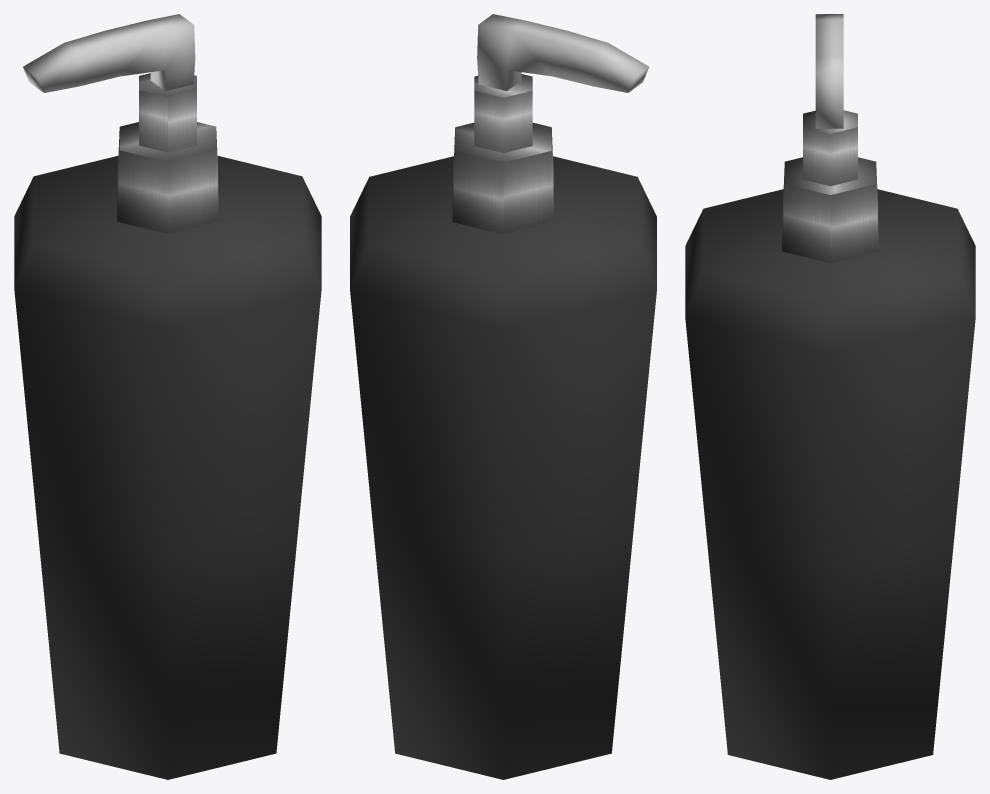
Rendered from Soap_Dispenser_C.FBX.
3 renders of one model, left to right at view 1: azimuth 30°, elevation 25°; view 2: azimuth 150°, elevation 25°; view 3: azimuth 270°, elevation 25°, orthographic. The views are drawn at different scales.
Parts seen in each view (by area): view 1: Soap_Dispenser; view 2: Soap_Dispenser; view 3: Soap_Dispenser.
Part boxes in pixels (box(x1,y1,x2,y2)): Soap_Dispenser: box(14, 14, 321, 779); Soap_Dispenser: box(350, 14, 656, 779); Soap_Dispenser: box(685, 14, 975, 779).
Size of the model in its own units: 18.48 by 40.55 by 16.01.
